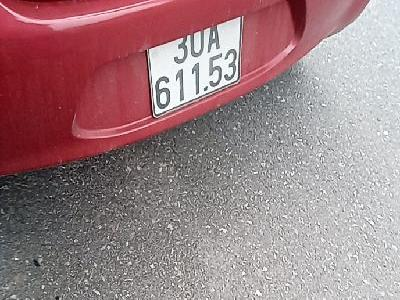lisence: (145, 14, 244, 119)
